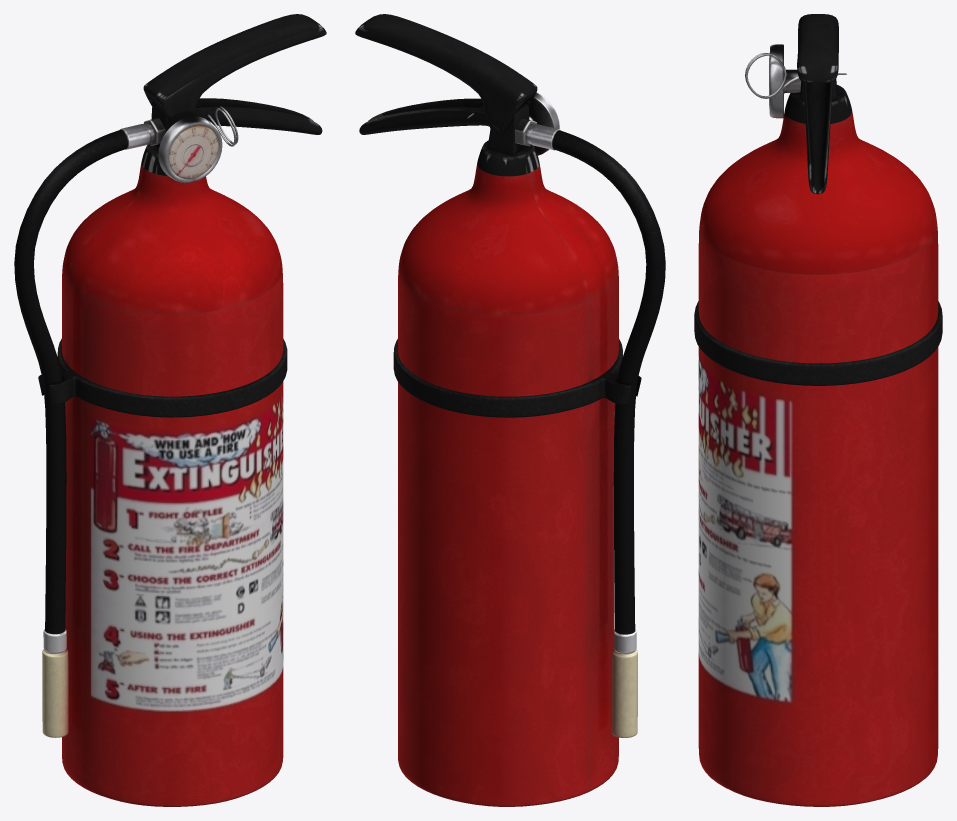
File: Extinguisher.fbx
3 views of the same model, side by side, from view 1: azimuth 30°, elevation 25°; view 2: azimuth 150°, elevation 25°; view 3: azimuth 270°, elevation 25° (orthographic). The views are drawn at different scales.
Visible parts, largest first — view 1: 10285_Fire Extinguisher_v3_iterations-2; view 2: 10285_Fire Extinguisher_v3_iterations-2; view 3: 10285_Fire Extinguisher_v3_iterations-2.
Part boxes in pixels (x1=…): 10285_Fire Extinguisher_v3_iterations-2: x1=14, y1=14, x2=326, y2=806; 10285_Fire Extinguisher_v3_iterations-2: x1=355, y1=14, x2=665, y2=806; 10285_Fire Extinguisher_v3_iterations-2: x1=694, y1=14, x2=942, y2=806.
Size of the model in its own units: 221 by 493 by 144.
Materials: 1 (1 with a texture image).
